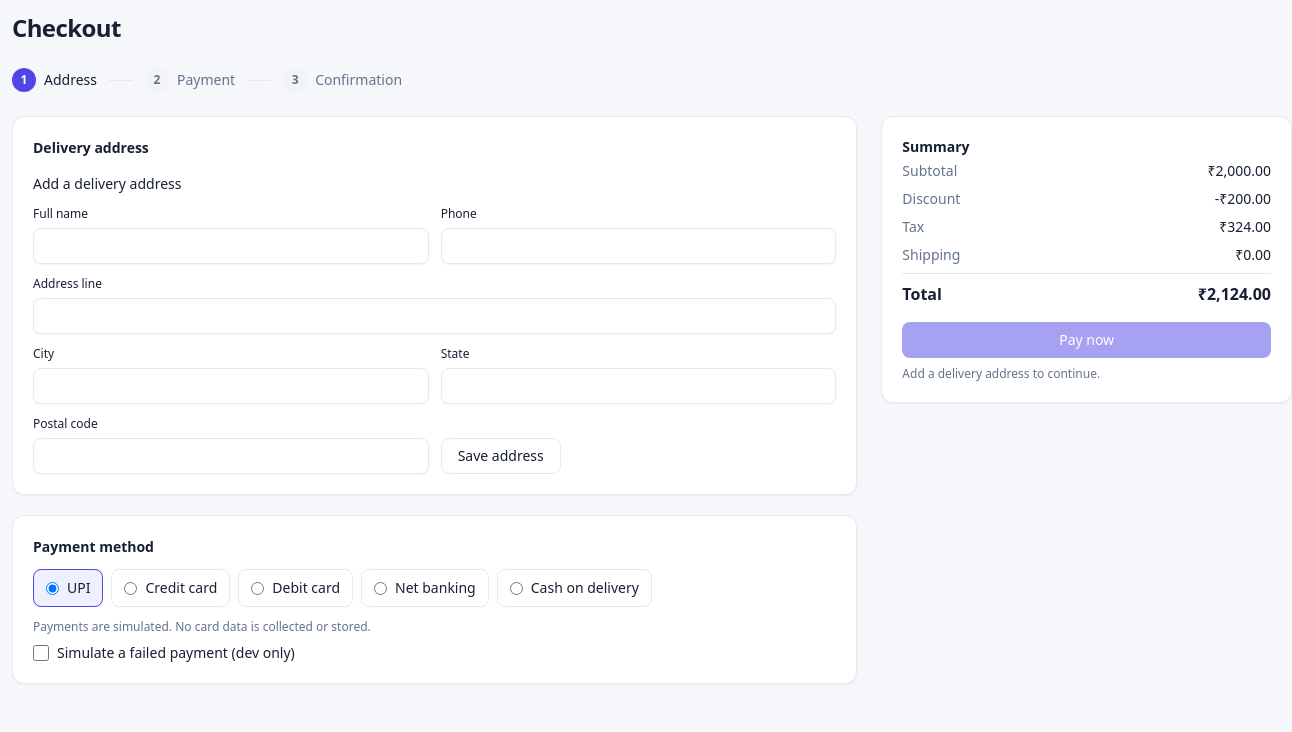
Test: CheckoutPage (idempotent order + payment flow) › validates a new address before calling the API
Click the button "Save address" at (501, 456), box [441,438,561,474]
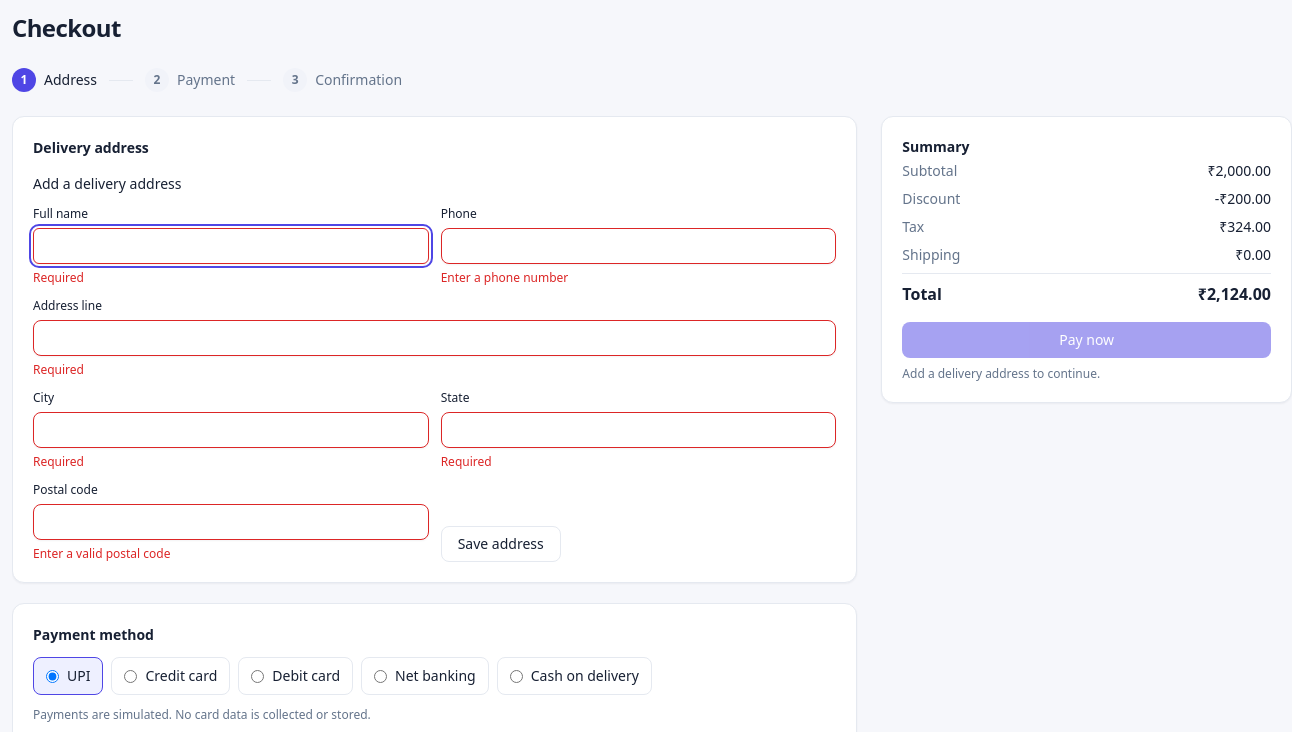
expect the text "Enter a valid postal code" is shown: met, box [33,545,170,562]
